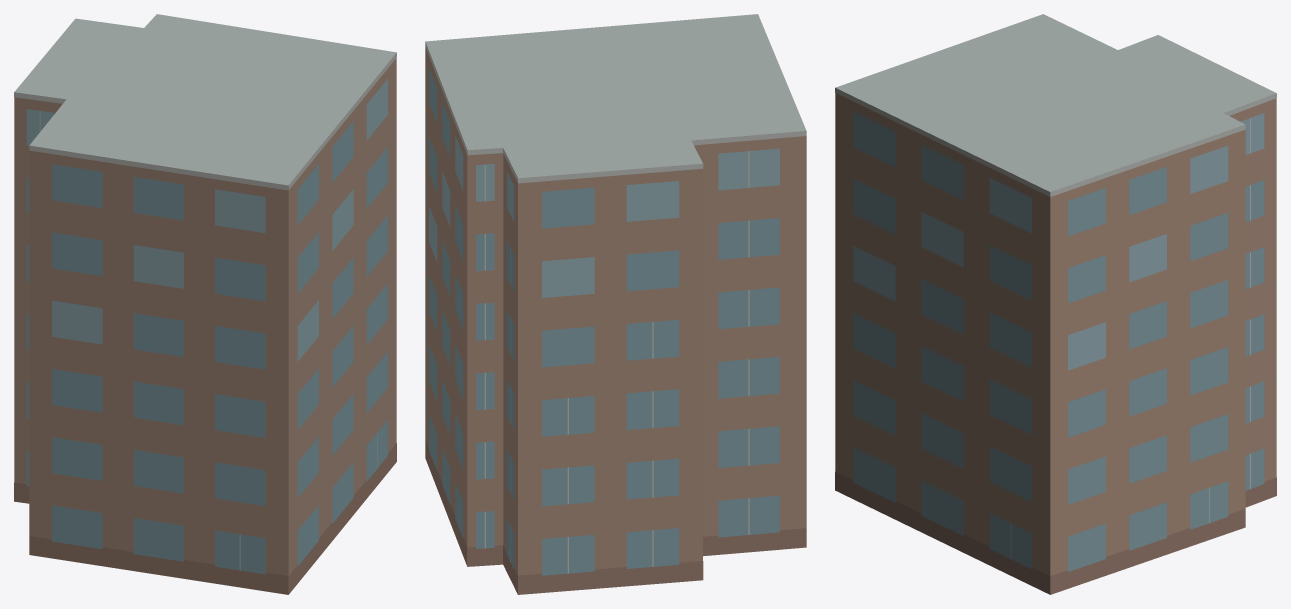
Rendered from survey-upis-32590329.glb.
3 renders of one model, left to right at view 1: azimuth 30°, elevation 25°; view 2: azimuth 150°, elevation 25°; view 3: azimuth 270°, elevation 25°, orthographic. The views are drawn at different scales.
Visible parts, largest first — view 1: survey-upis-32590329.tmp; view 2: survey-upis-32590329.tmp; view 3: survey-upis-32590329.tmp.
Part boxes in pixels (<box>): survey-upis-32590329.tmp: <box>14,14,396,594</box>; survey-upis-32590329.tmp: <box>425,14,806,594</box>; survey-upis-32590329.tmp: <box>835,14,1276,594</box>.
Size of the model in its own units: 18.98 by 20 by 19.88.
